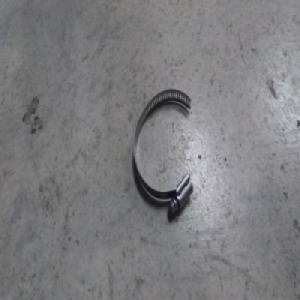AdjustableClamp: (131, 88, 195, 213)
